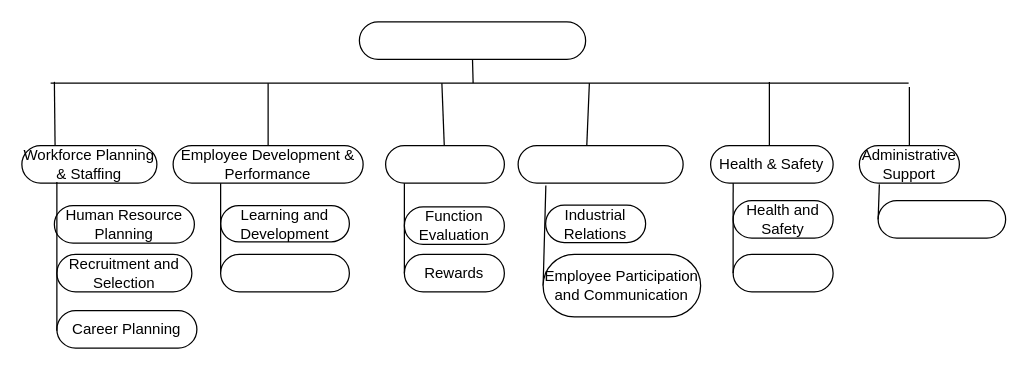
This 1028x370 diagram has some shape labels left out. The box of each missing label's shape, as (x1, y1, x2, y2) in pixels:
Administrative Responsibilities: (877, 199, 1006, 238)
Compensation & Benefits: (384, 144, 504, 183)
Employee Relations & Engagement: (517, 144, 683, 183)
HR Administration: (358, 21, 586, 59)
Performance Management: (219, 253, 349, 292)
Personal Wellbeing: (732, 253, 833, 292)
